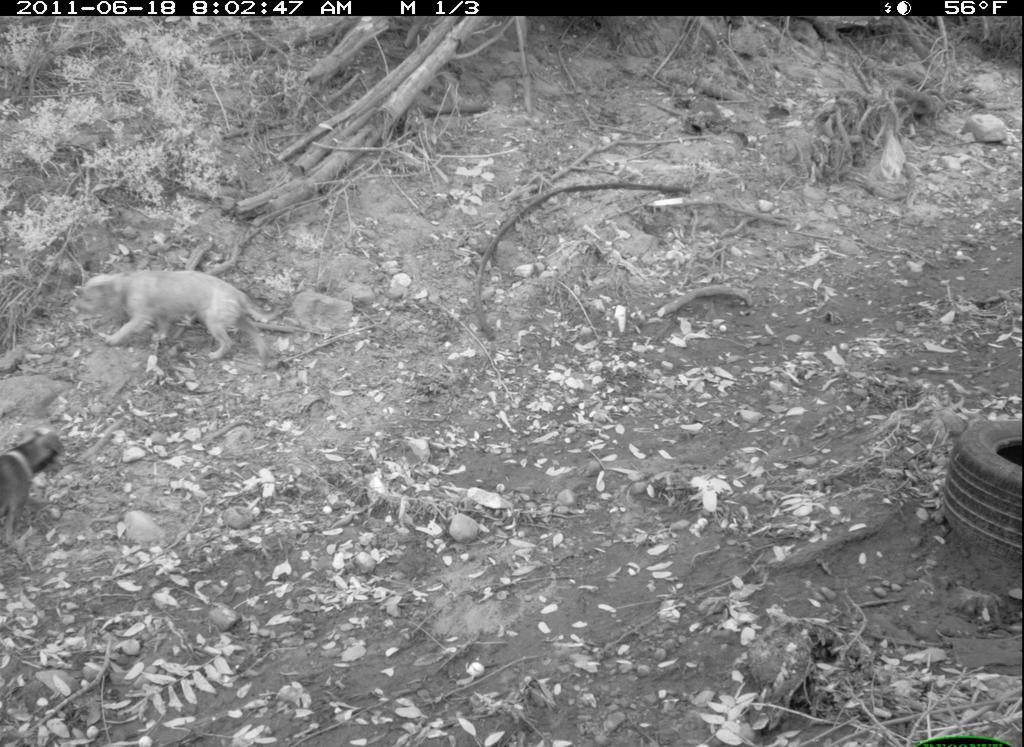dog: (75, 264, 291, 365), (2, 424, 76, 557)
